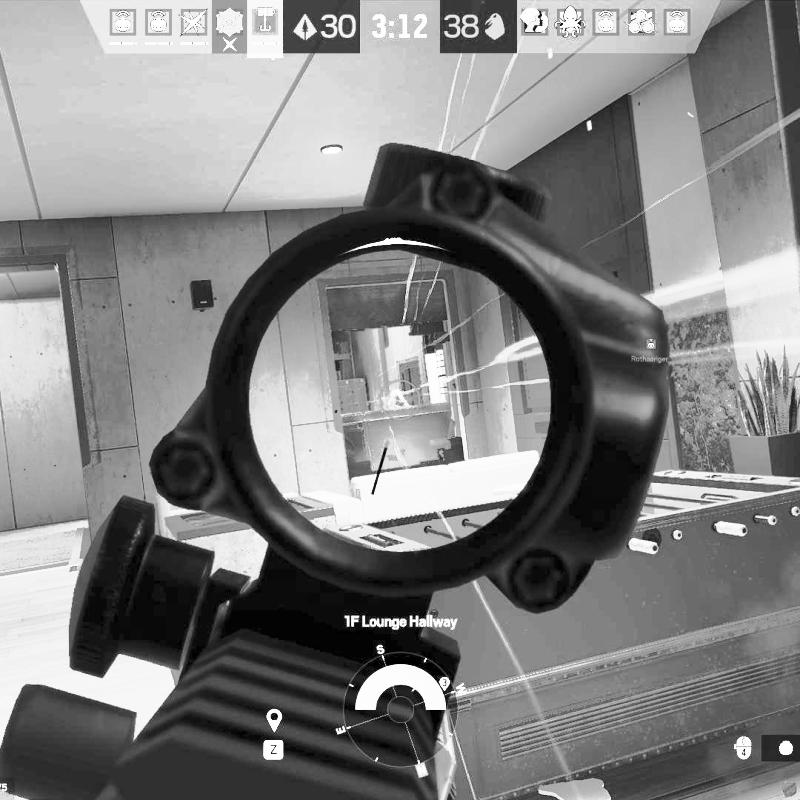Character: (387, 390, 410, 408)
Friend_label: (630, 336, 670, 362)
Head: (390, 390, 404, 406)
